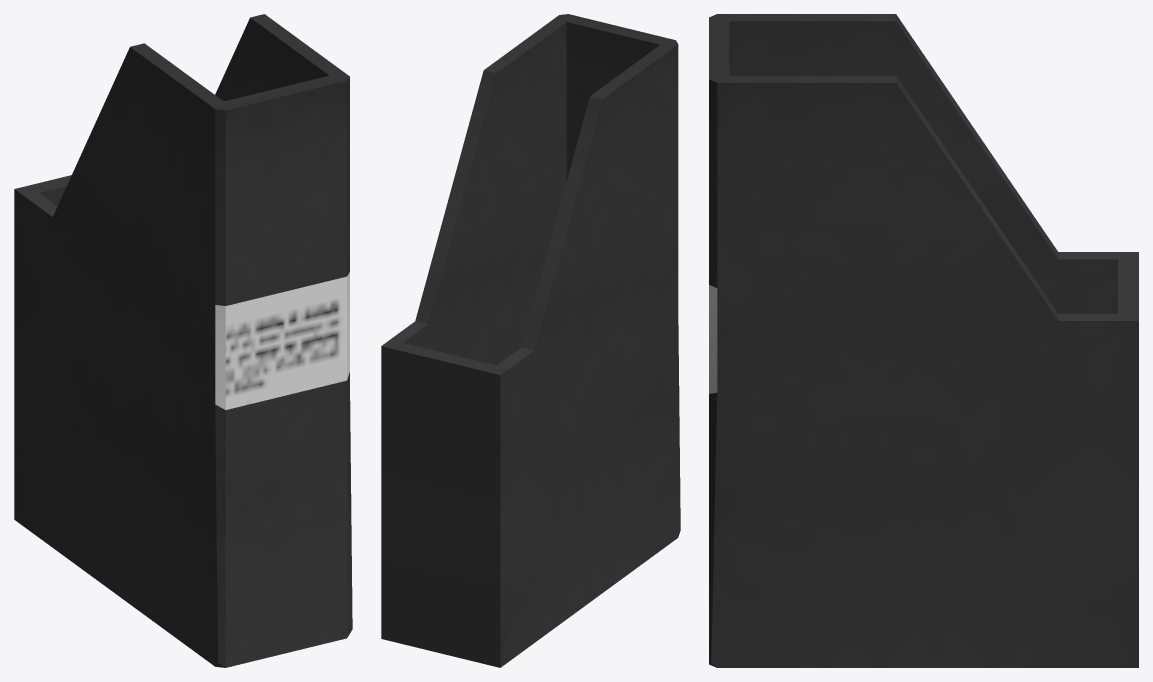
File: document_folder_3.fbx
3 views of the same model, side by side, from view 1: azimuth 30°, elevation 25°; view 2: azimuth 150°, elevation 25°; view 3: azimuth 270°, elevation 25° (orthographic). The views are drawn at different scales.
Visible parts, largest first — view 1: document_folder_3; view 2: document_folder_3; view 3: document_folder_3.
Boxes of the visible parts, box(x1,y1,x2,y2) form: document_folder_3: box(14, 14, 352, 667); document_folder_3: box(381, 14, 680, 667); document_folder_3: box(709, 14, 1138, 667).
Bounding box in the file's own units: 8.3 × 32.85 × 21.86.
